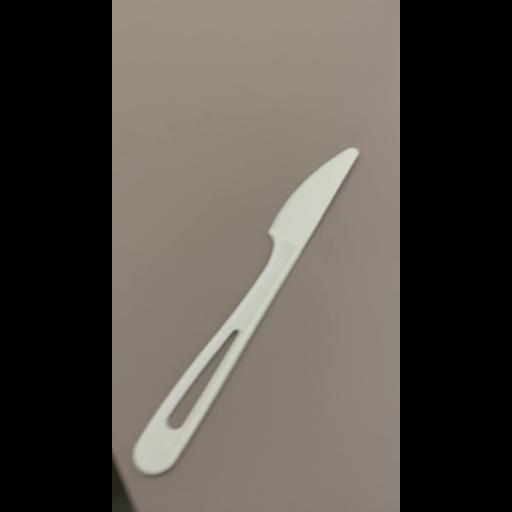utensil: (131, 130, 359, 476)
